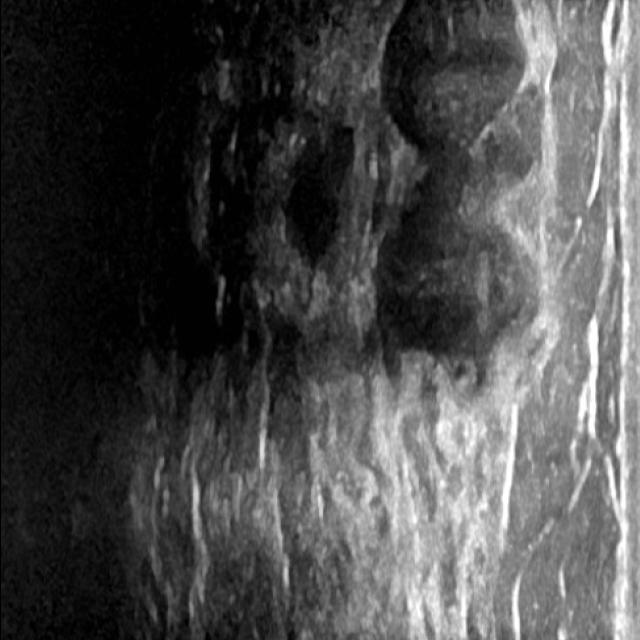Benign: (368, 209, 538, 377)
